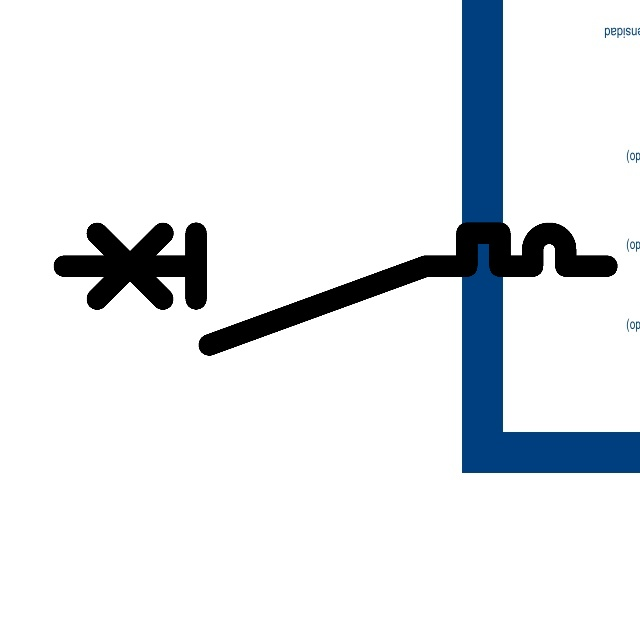interruptor_termomagnetico: (50, 219, 621, 359)
